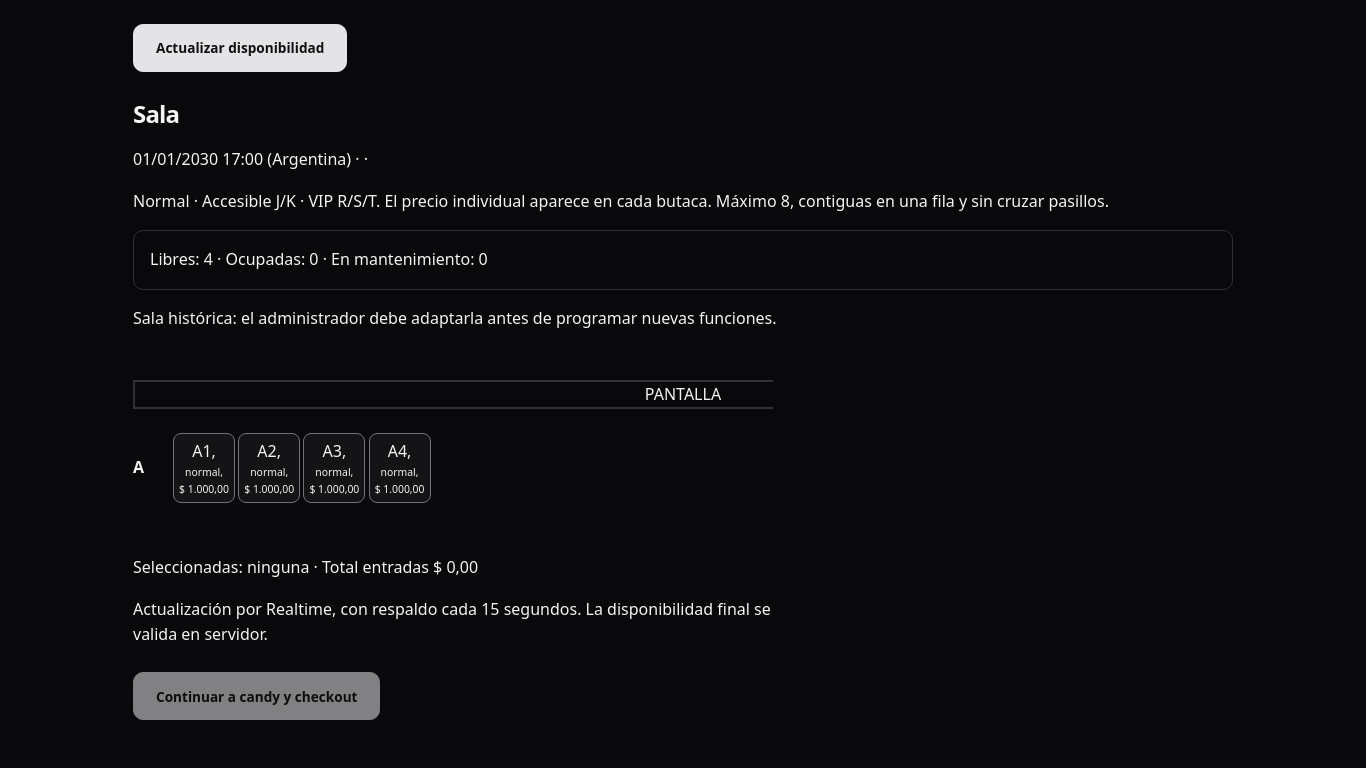
Test case: Disponibilidad automática › actualiza cada 15 segundos y elimina una selección ocupada por otra reserva
(page scrolled)
Click the button "A1, normal, $ 1.000,00": click(204, 468) [173,433,235,503]
Wait 15000 ms
(page scrolled)
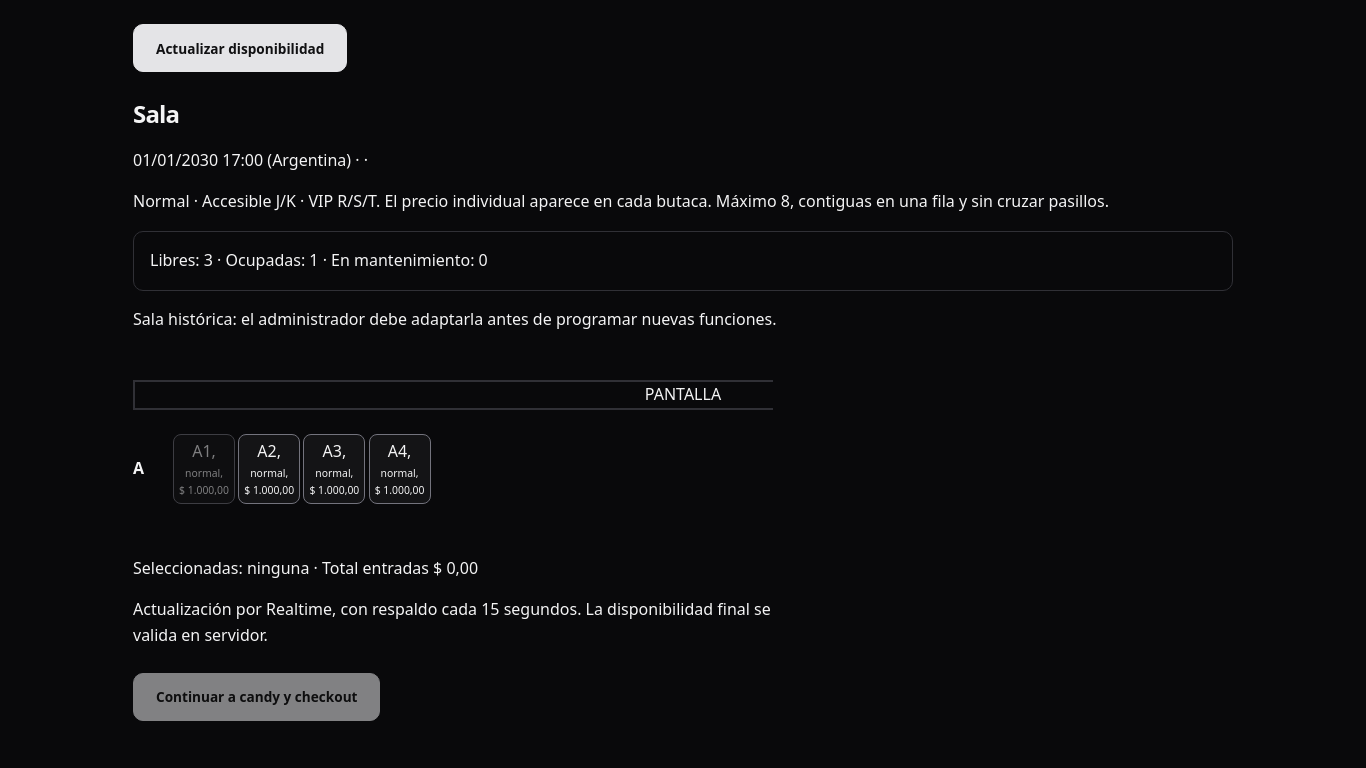
Expected: the button "A1, normal, $ 1.000,00" is disabled, [173,434,235,504]
